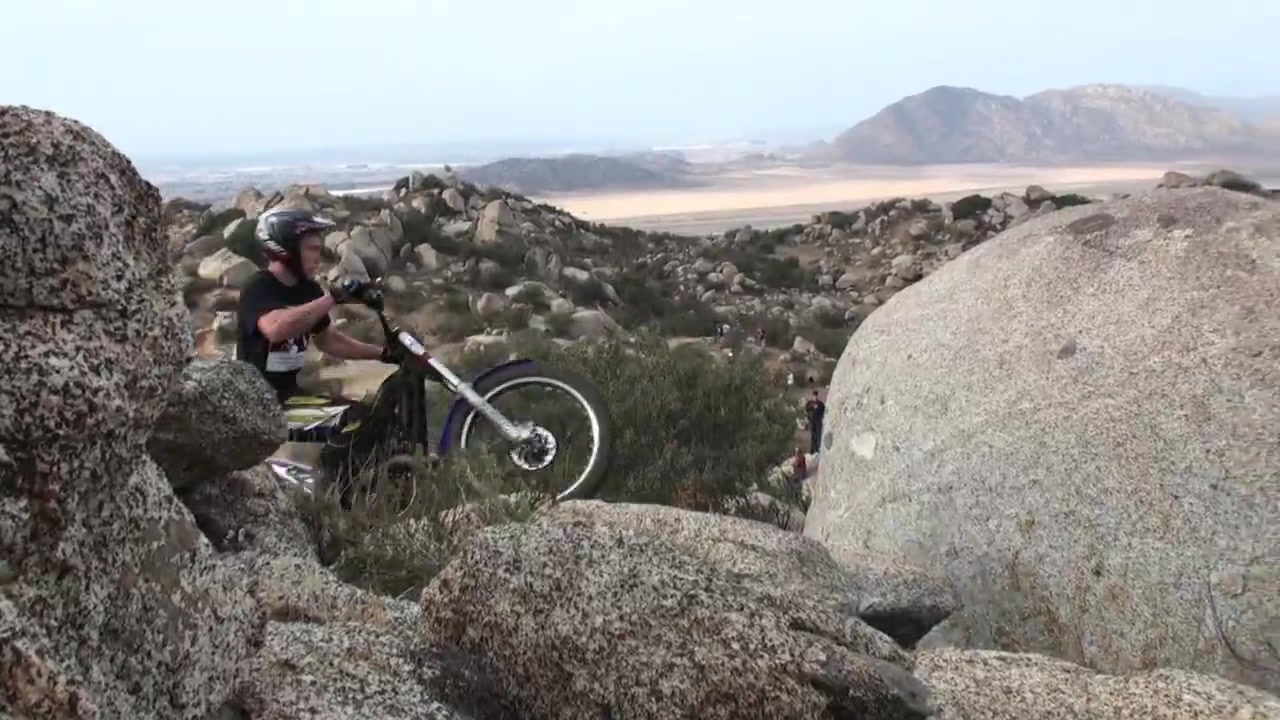motorbike: (260, 293, 618, 526)
